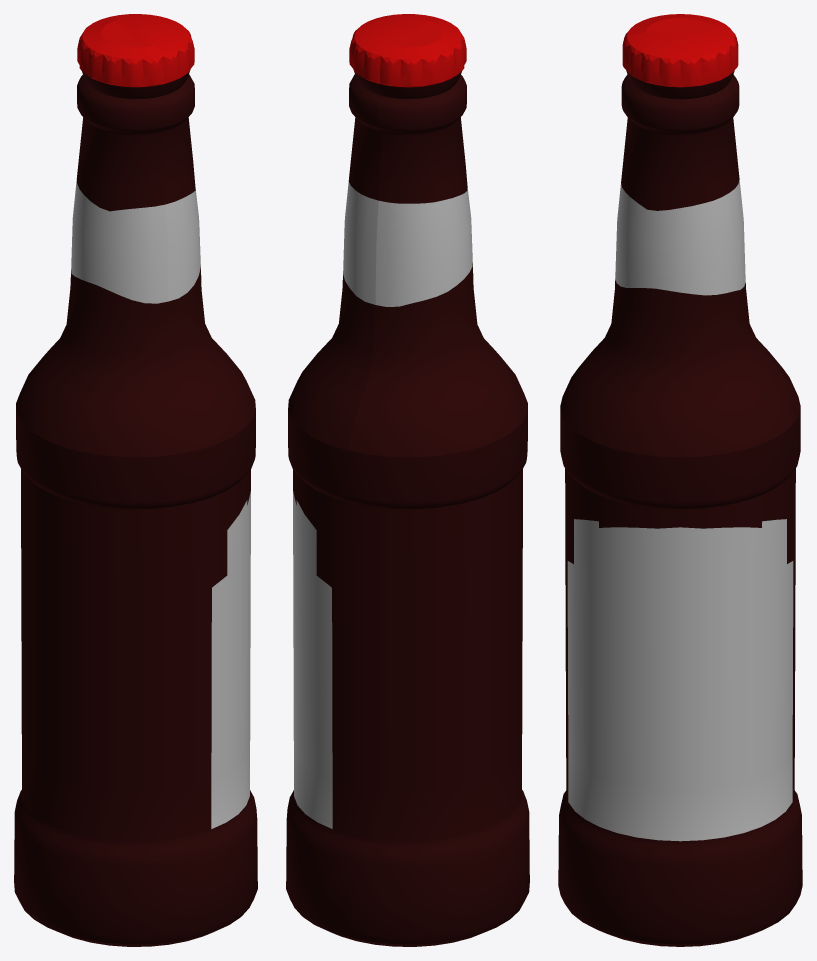
File: pawn.obj
The picture shows the model from 3 angles, left to right: view 1: azimuth 30°, elevation 25°; view 2: azimuth 150°, elevation 25°; view 3: azimuth 270°, elevation 25°; orthographic projection.
Parts seen in each view (by area): view 1: Cylinder; view 2: Cylinder; view 3: Cylinder.
Part boxes in pixels (<box>): Cylinder: <box>14,14,257,946</box>; Cylinder: <box>286,14,529,946</box>; Cylinder: <box>558,14,802,946</box>.
Size of the model in its own units: 0.401 by 1.58 by 0.401.
